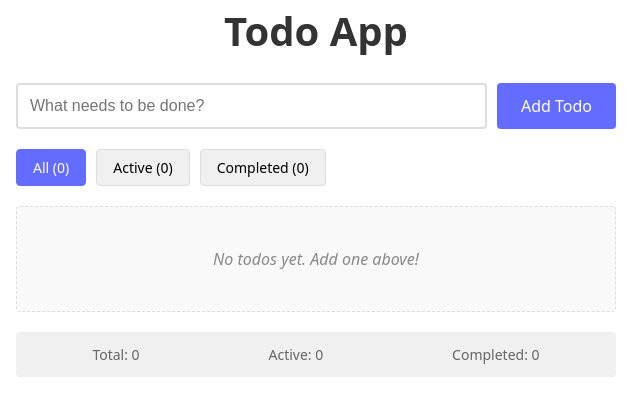
it: Todos Component › deletes a todo
Type "Delete Me" into the field with test id "todo-input" at (252, 106), box [16,83,487,129]
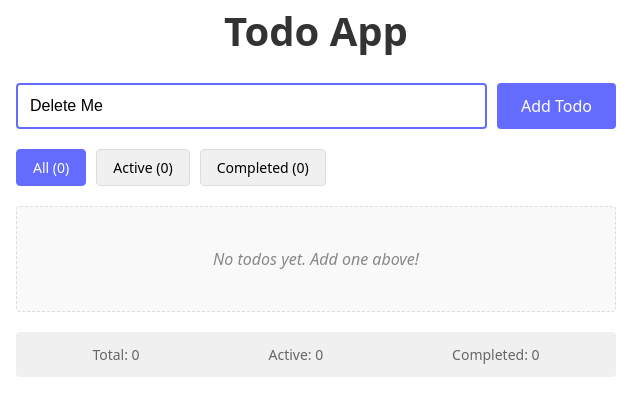
Click the button with test id "add-todo-button" at (556, 106), box [497,83,616,129]
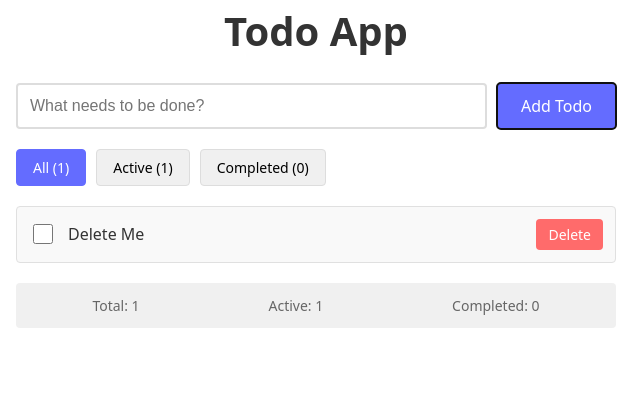
Check: the text "Delete Me" is shown, box [68,223,144,245]
Click the button with test id "delete-todo-button-" at (570, 234), box [536,219,603,250]
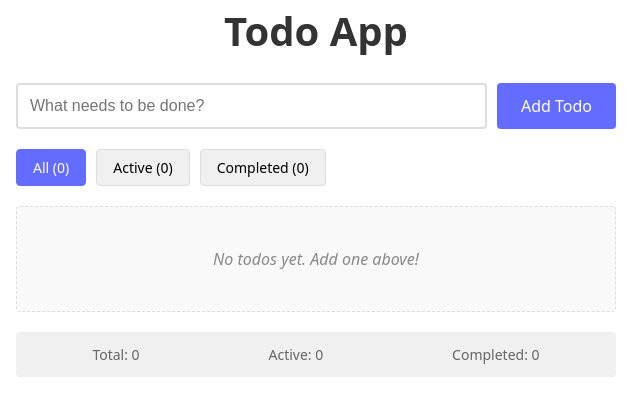
Check: the text "Delete Me" is gone
